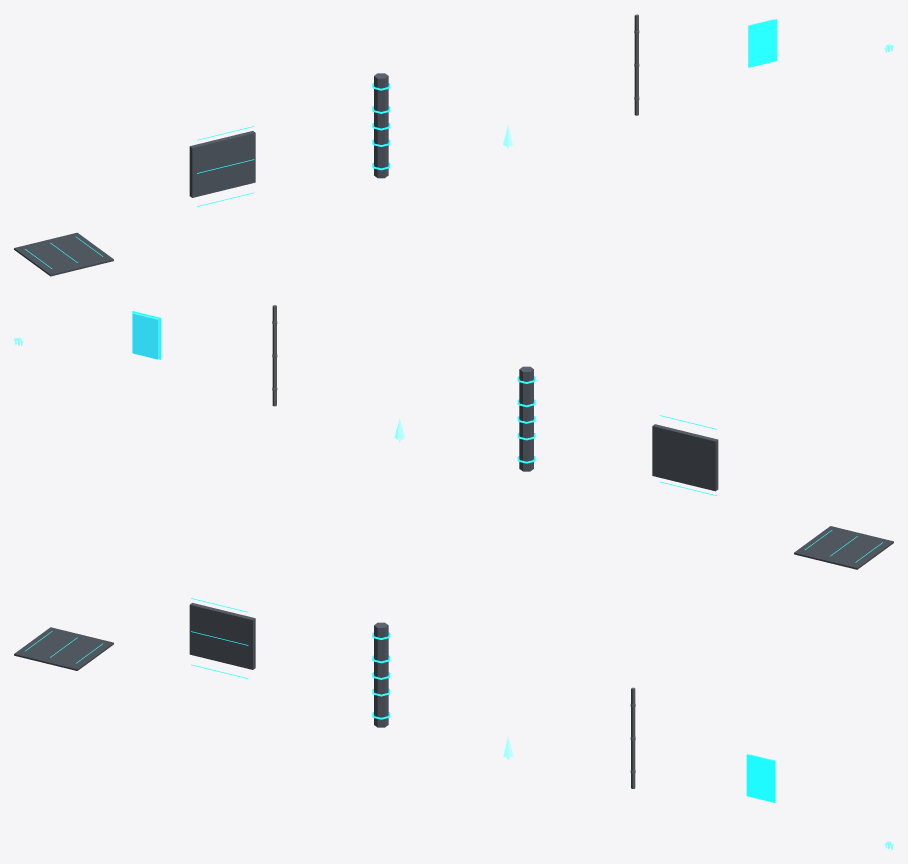
File: dungeon_tiles_v2.glb
3 renders of one model, top to bottom at view 1: azimuth 30°, elevation 25°; view 2: azimuth 150°, elevation 25°; view 3: azimuth 330°, elevation 25°, orthographic.
Visible parts, largest first — view 1: WallPanel, FloorTile, TechColumn, DoorFrame; view 2: WallPanel, FloorTile, TechColumn, TechDoor; view 3: WallPanel, FloorTile, TechColumn, DoorFrame.
Part boxes in pixels (x1,y1,x2,y2): WallPanel: (189,131,255,197); FloorTile: (14,232,113,276); TechColumn: (374,73,388,178); DoorFrame: (748,19,777,67); WallPanel: (652,424,718,491); FloorTile: (794,526,893,569); TechColumn: (519,366,533,471); TechDoor: (132,312,159,359); WallPanel: (189,603,255,669); FloorTile: (14,627,113,670); TechColumn: (374,622,388,727); DoorFrame: (746,754,775,802).
Size of the model in its own units: 27.15 by 3.15 by 2.
